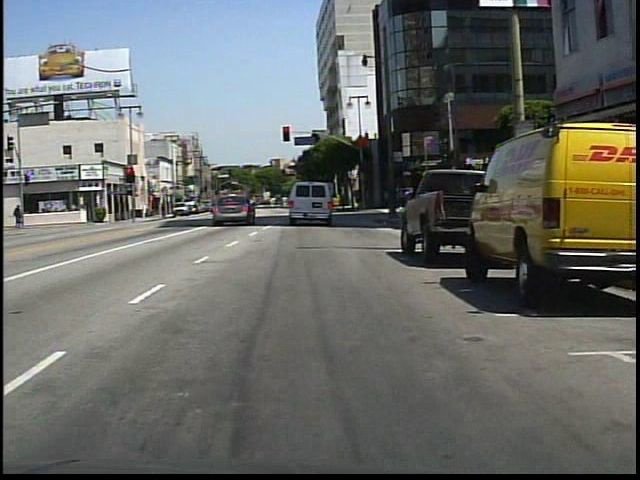person: (288, 190, 306, 222), (11, 202, 27, 230), (247, 194, 262, 220)
